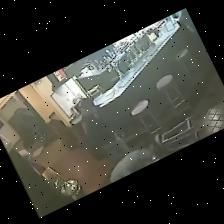person: (110, 149, 154, 182)
